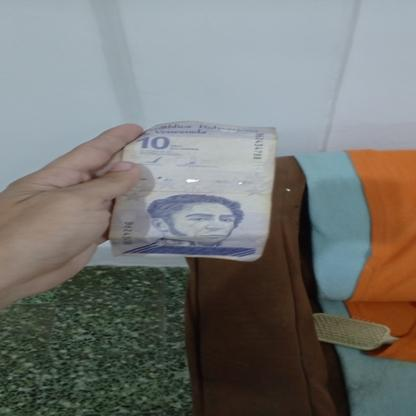ten-front-vef: (108, 122, 278, 261)
